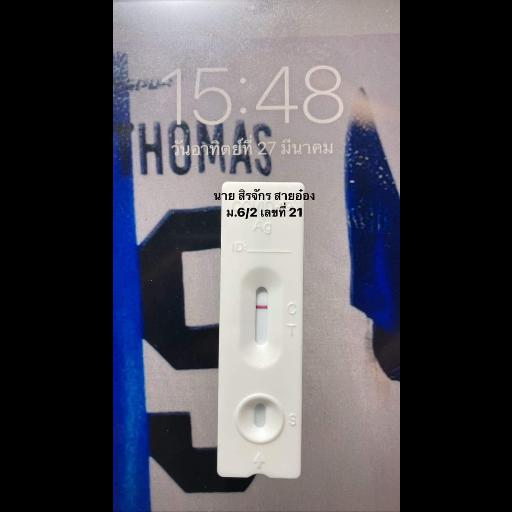Neg: (218, 182, 302, 480)
